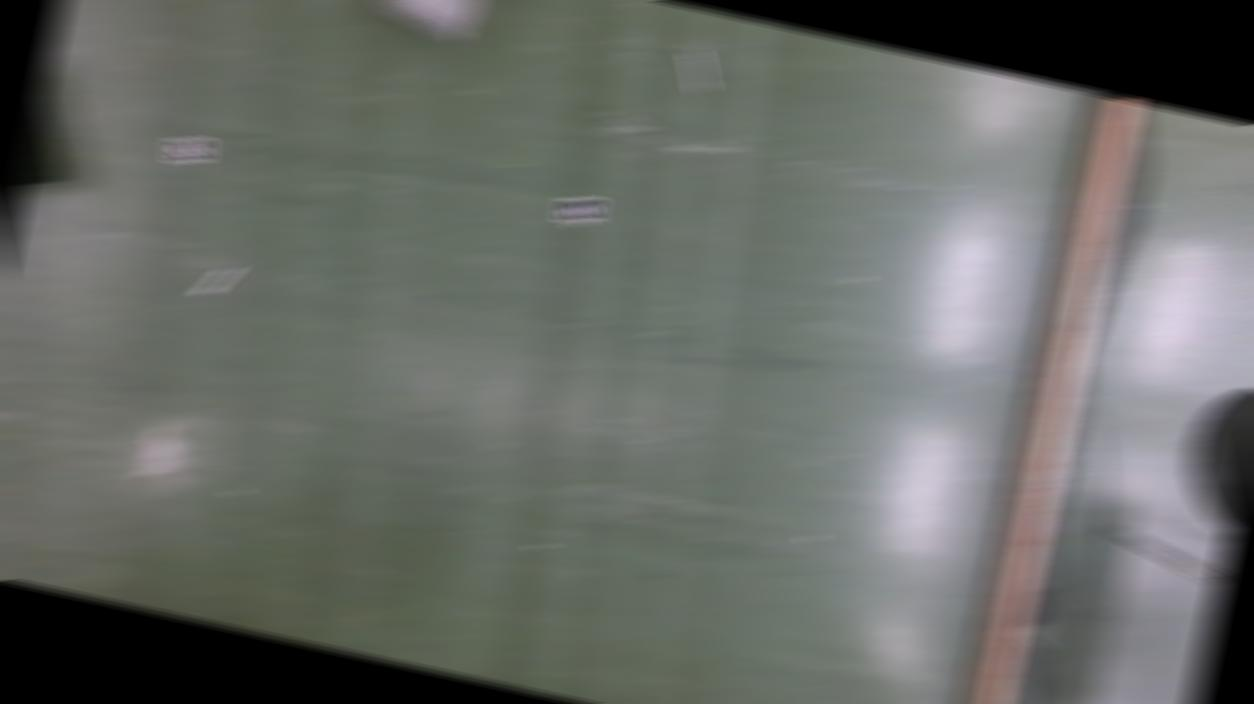probes: (679, 49, 720, 96), (198, 263, 236, 300)
rako: (14, 65, 87, 202), (351, 0, 498, 48)
